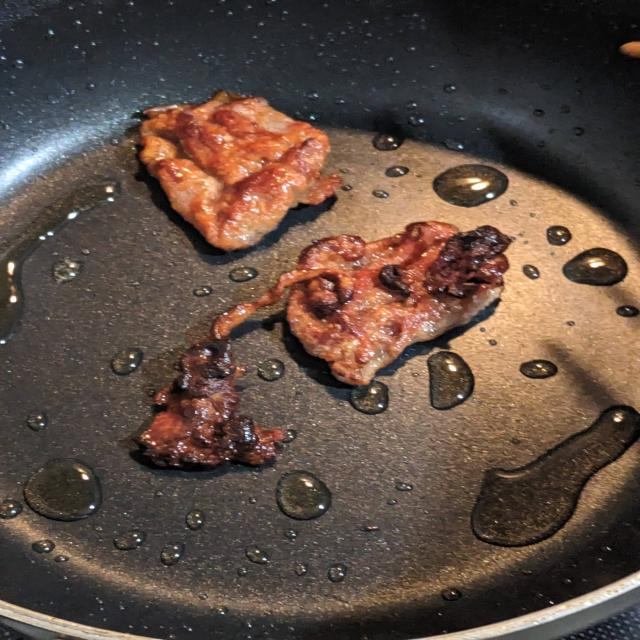overcooked pork: (118, 221, 518, 479), (131, 87, 352, 259)
